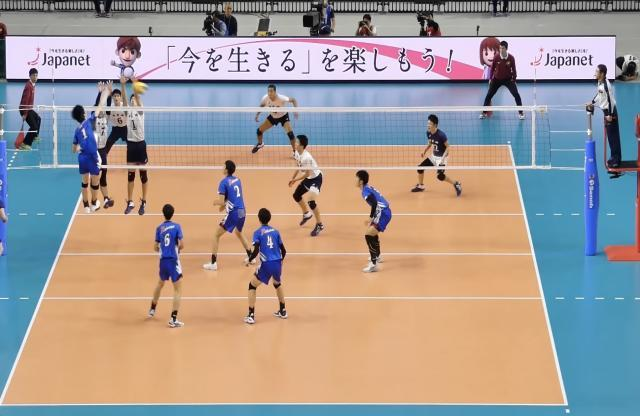spike: (69, 76, 119, 222)
